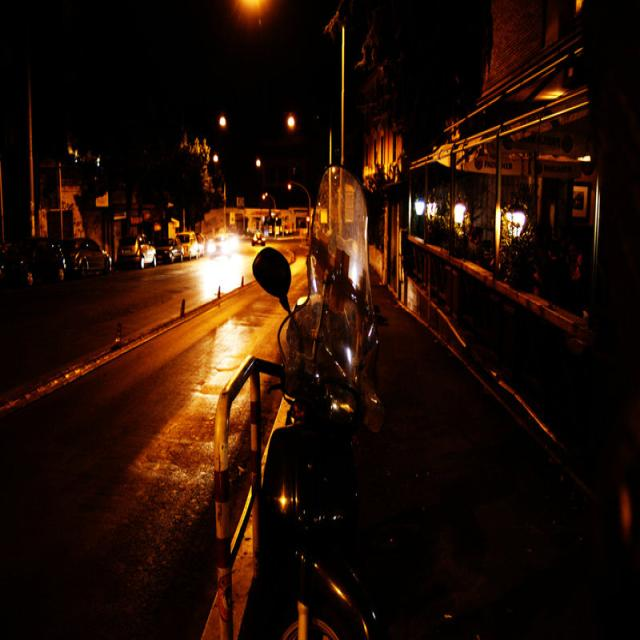Motorbike: (258, 212, 423, 640)
